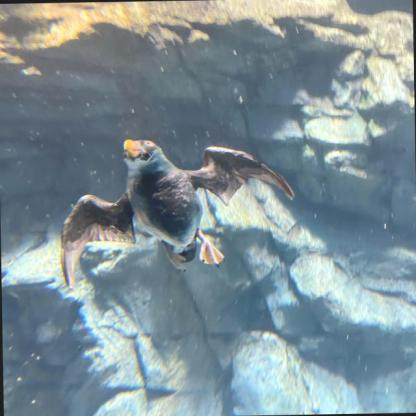puffin: (47, 124, 296, 291)
